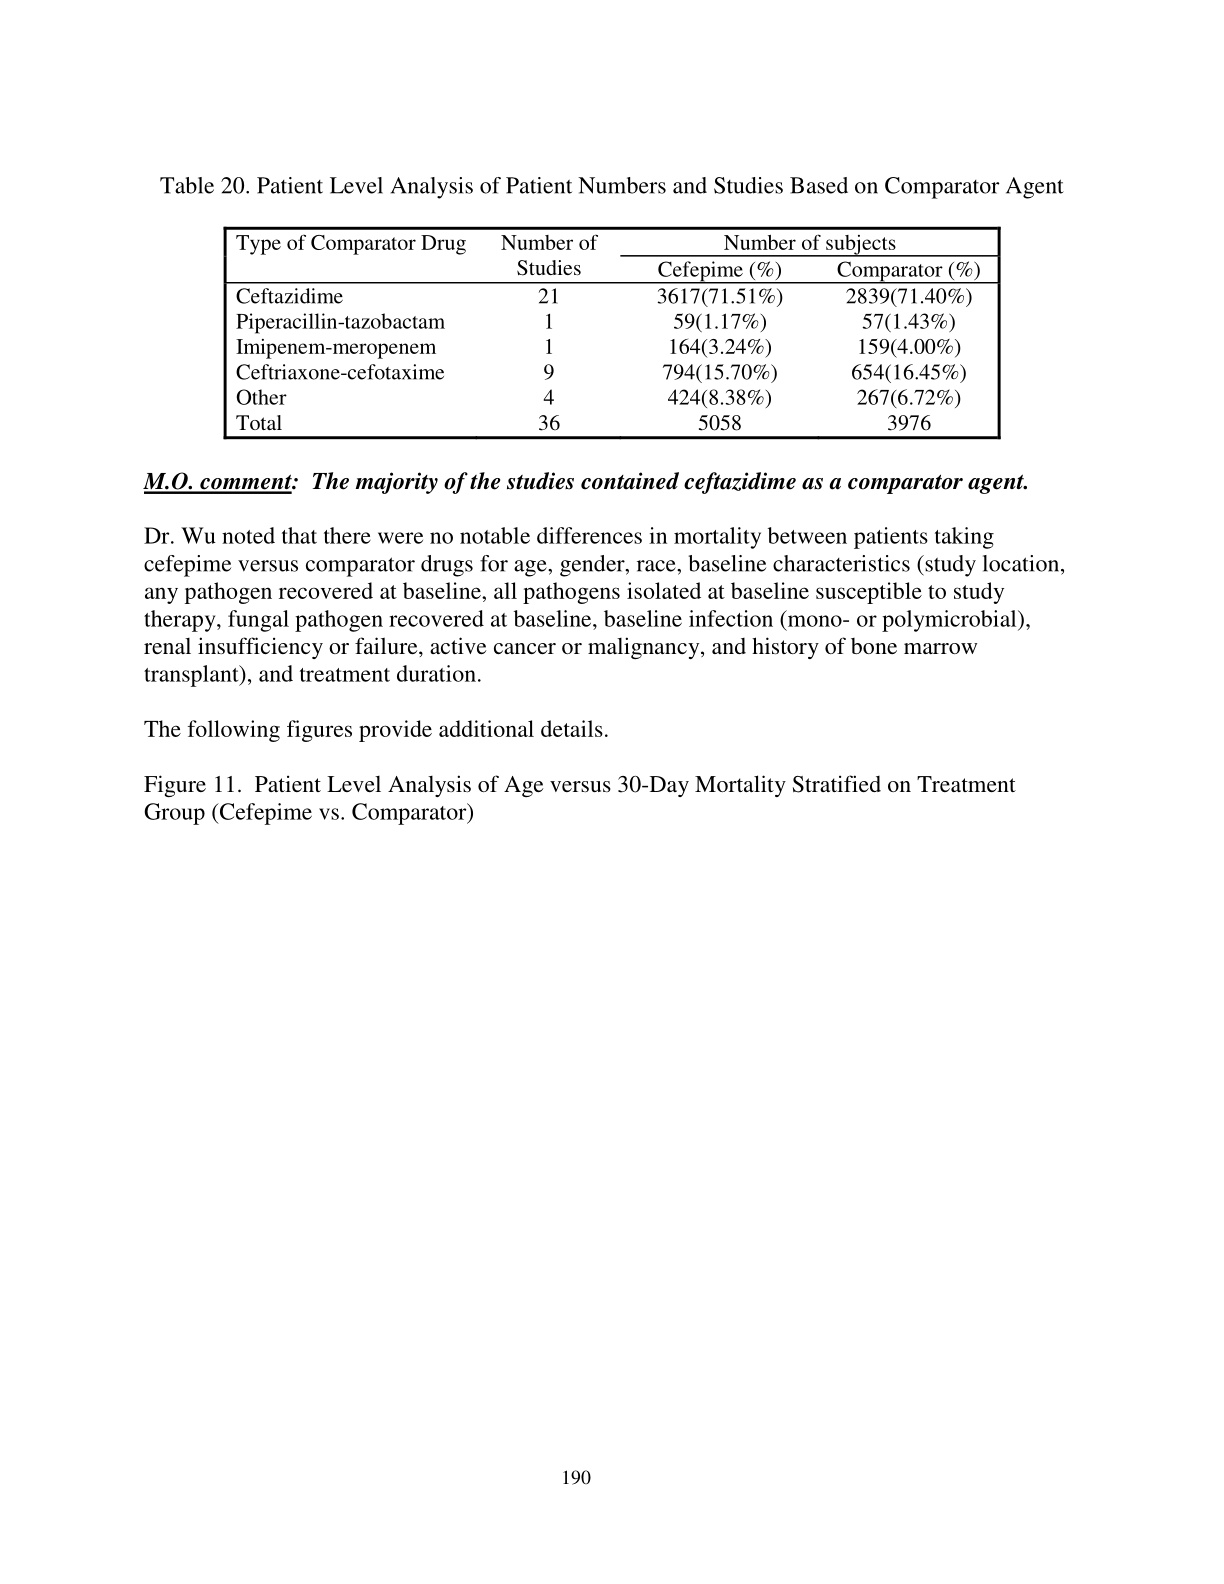partial_lined_merged_cells: (222, 224, 1002, 441)
